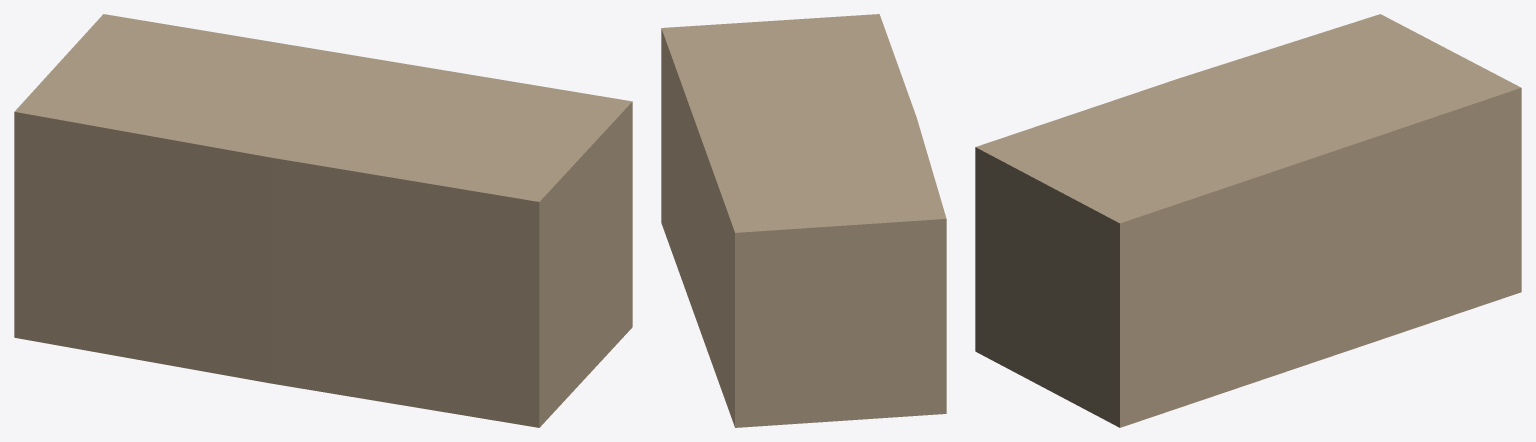
The model's file is bld_99589078.dae.
3 views of the same model, side by side, from view 1: azimuth 30°, elevation 25°; view 2: azimuth 150°, elevation 25°; view 3: azimuth 270°, elevation 25° (orthographic). The views are drawn at different scales.
Visible parts, largest first — view 1: bld_99589078; view 2: bld_99589078; view 3: bld_99589078.
Part boxes in pixels (x1,y1,x2,y2): bld_99589078: (14, 14, 632, 427); bld_99589078: (661, 14, 946, 427); bld_99589078: (975, 14, 1521, 427).
Size of the model in its own units: 17.57 by 19.36 by 8.
